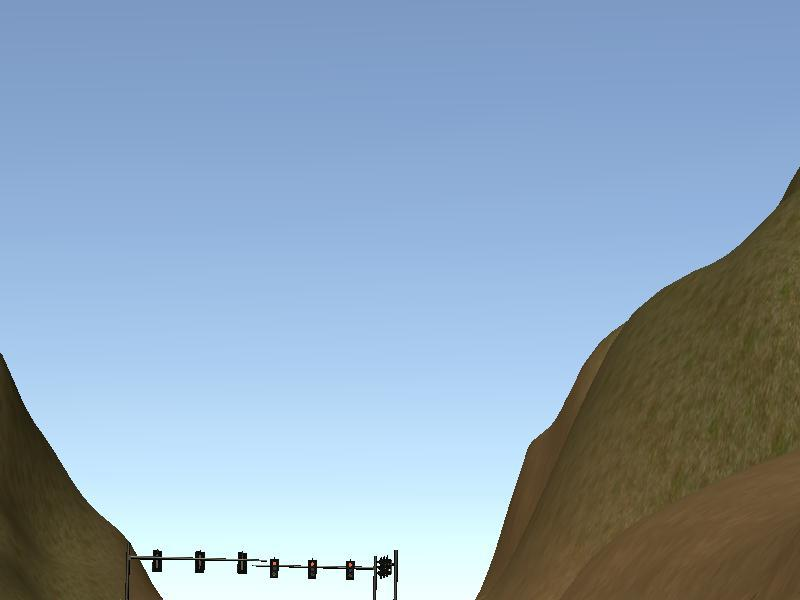Red: (308, 559, 317, 580), (345, 559, 354, 580), (270, 559, 277, 578)
